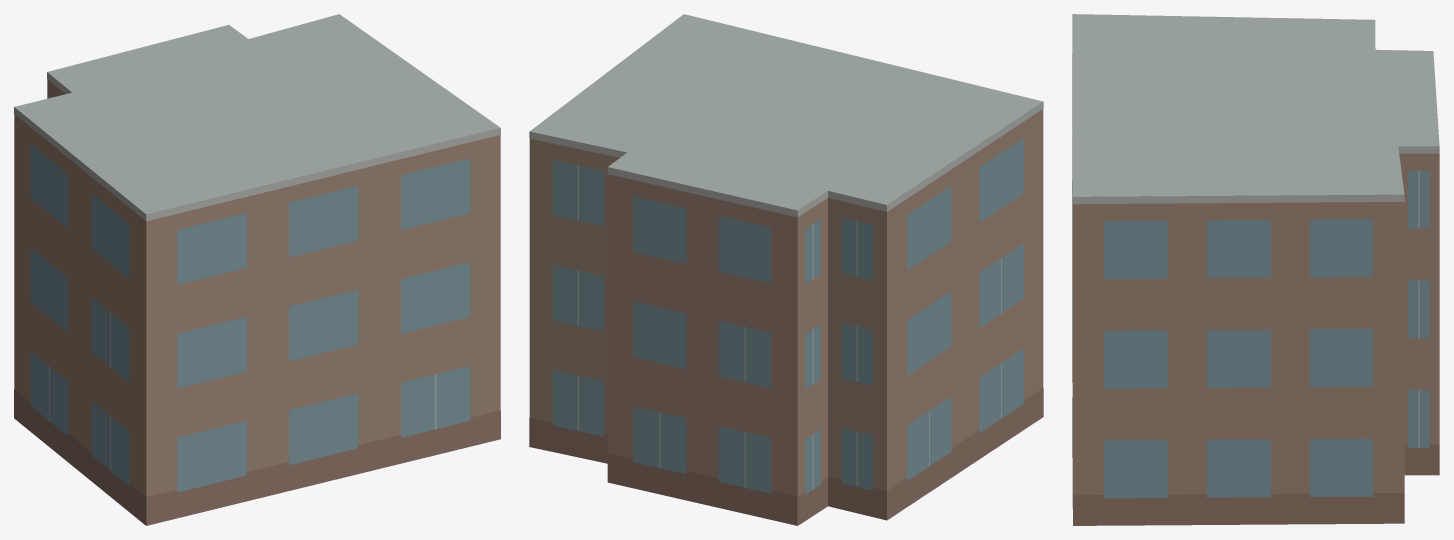
Rendered from survey-upis-32867084.glb.
The picture shows the model from 3 angles, left to right: view 1: azimuth 30°, elevation 25°; view 2: azimuth 150°, elevation 25°; view 3: azimuth 270°, elevation 25°; orthographic projection. The views are drawn at different scales.
Visible parts, largest first — view 1: survey-upis-32867084.tmp; view 2: survey-upis-32867084.tmp; view 3: survey-upis-32867084.tmp.
Boxes of the visible parts, x1,y1,x2,y2 form: survey-upis-32867084.tmp: [14, 14, 500, 525]; survey-upis-32867084.tmp: [529, 14, 1043, 525]; survey-upis-32867084.tmp: [1072, 14, 1439, 525].
Size of the model in its own units: 13.13 by 11 by 11.14.
